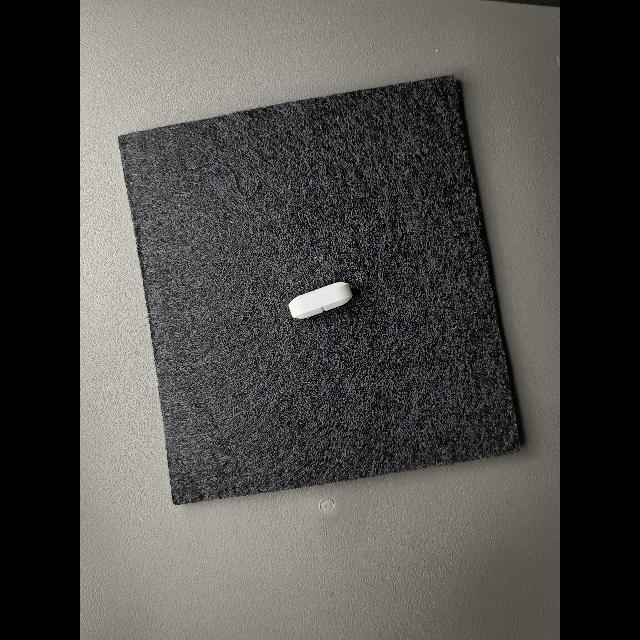Intact Pill: (288, 282, 353, 319)
